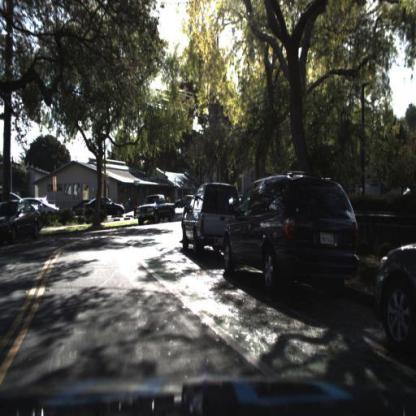car: (222, 172, 363, 283), (180, 181, 245, 251), (2, 199, 48, 240), (136, 195, 177, 226), (83, 194, 125, 222), (27, 197, 64, 226), (174, 182, 204, 215), (38, 198, 63, 231), (65, 195, 90, 225), (68, 196, 92, 224), (174, 194, 195, 212)
